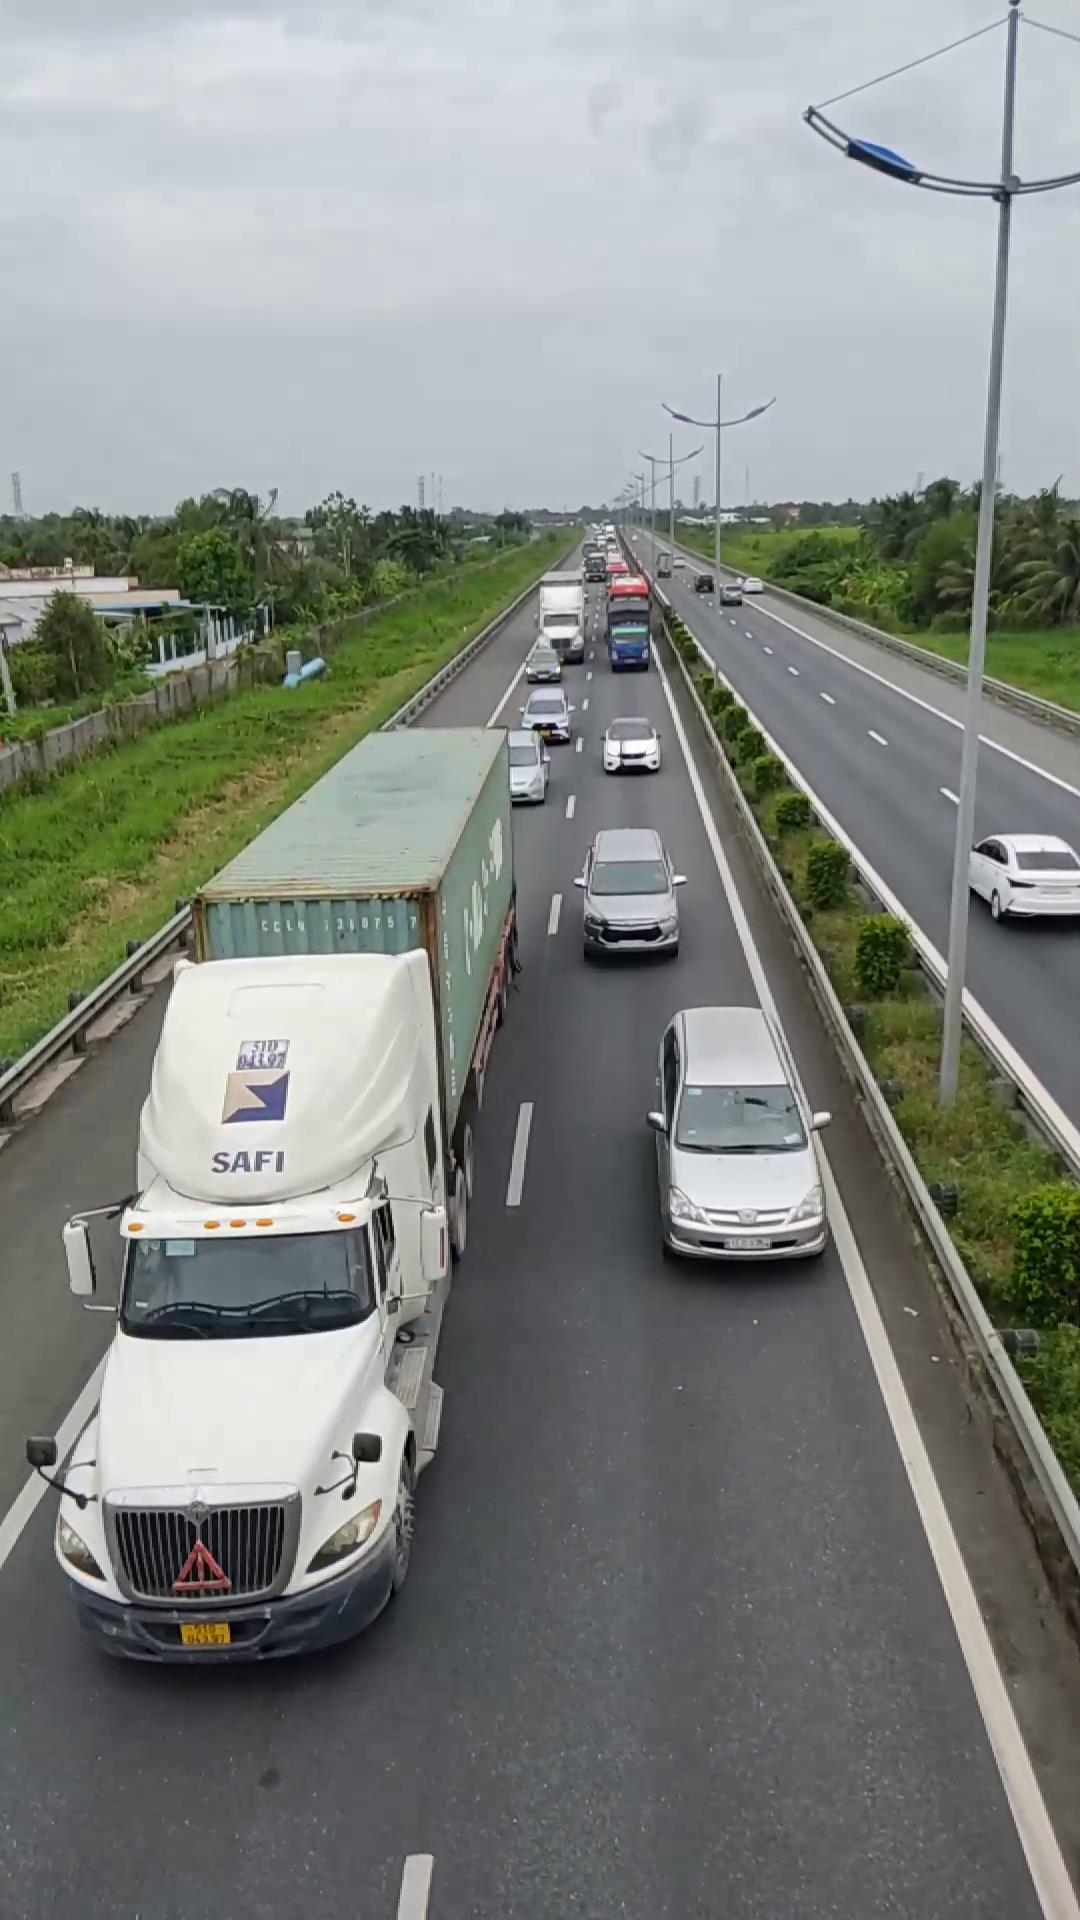car: (645, 1001, 831, 1264), (576, 826, 683, 963), (963, 830, 1079, 924)
container: (43, 720, 518, 1660)
